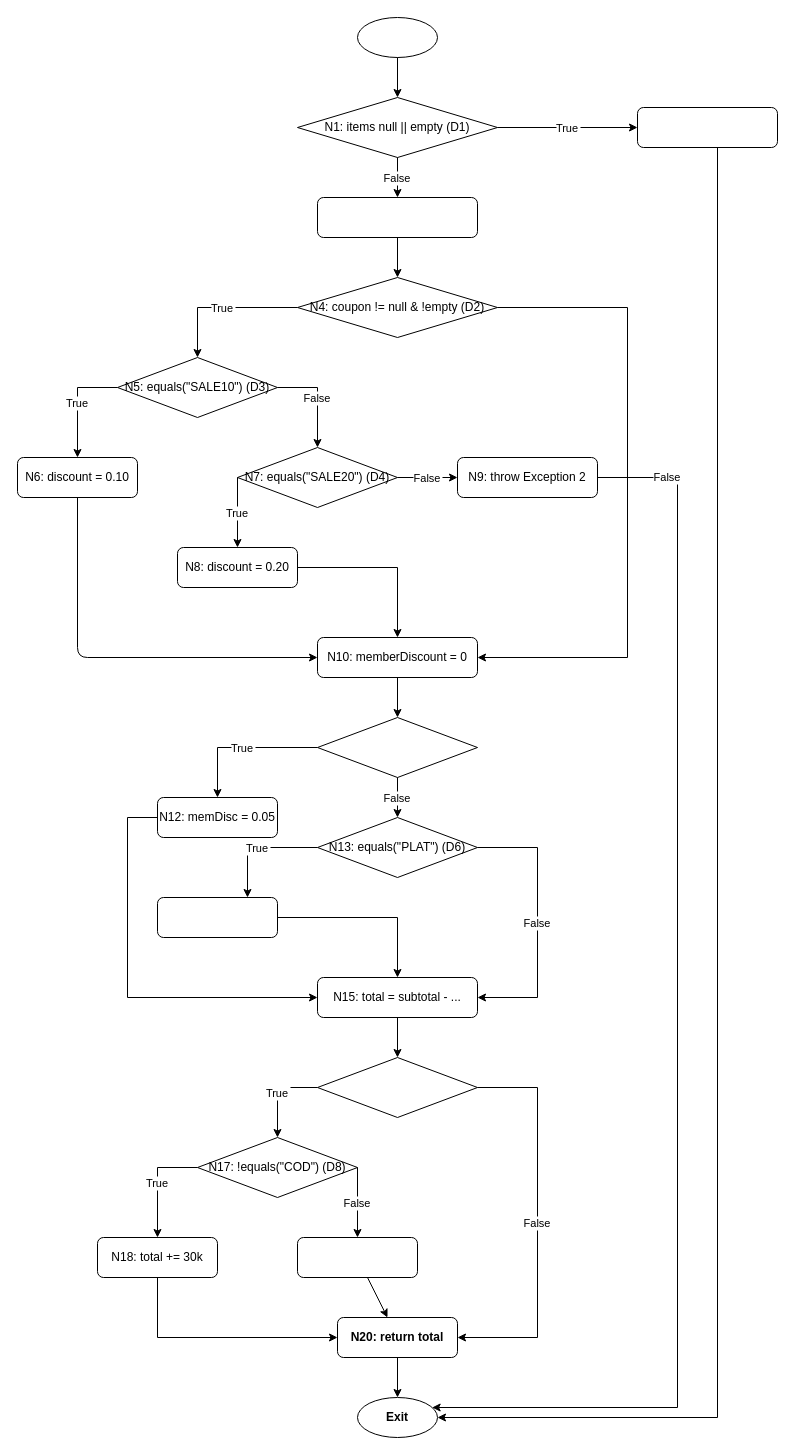
Some shapes in this 795 by 1455 pixel diagram are drawn without their labels. The centre of each missing label's shape, as x and y in pixels:
Entry: [397,37]
N11: equals("GOLD") (D5): [397,747]
N14: memDisc = 0.10: [217,917]
N16: total < 500k (D7): [397,1087]
N19: total += 20k: [357,1257]
N2: throw Exception 1: [707,127]
N3: subtotal = ...; discount = 0: [397,217]
